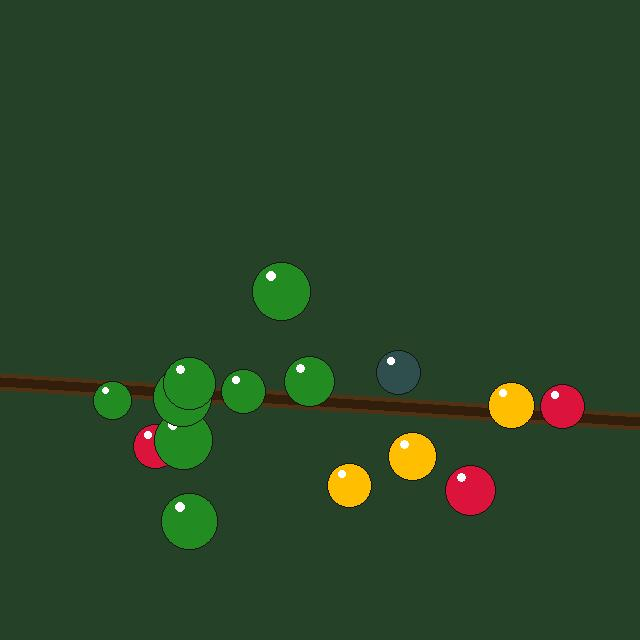Dry_Damaged: (376, 350, 420, 394)
Ripe: (445, 465, 495, 515), (133, 424, 177, 468), (540, 384, 584, 428)
Ripening: (388, 432, 436, 480), (488, 382, 534, 428), (327, 463, 371, 507)
Unripe: (154, 411, 212, 469), (153, 368, 211, 426), (252, 262, 310, 320), (161, 493, 217, 549), (163, 357, 215, 409), (284, 356, 334, 406), (221, 369, 265, 413), (93, 381, 131, 419)
